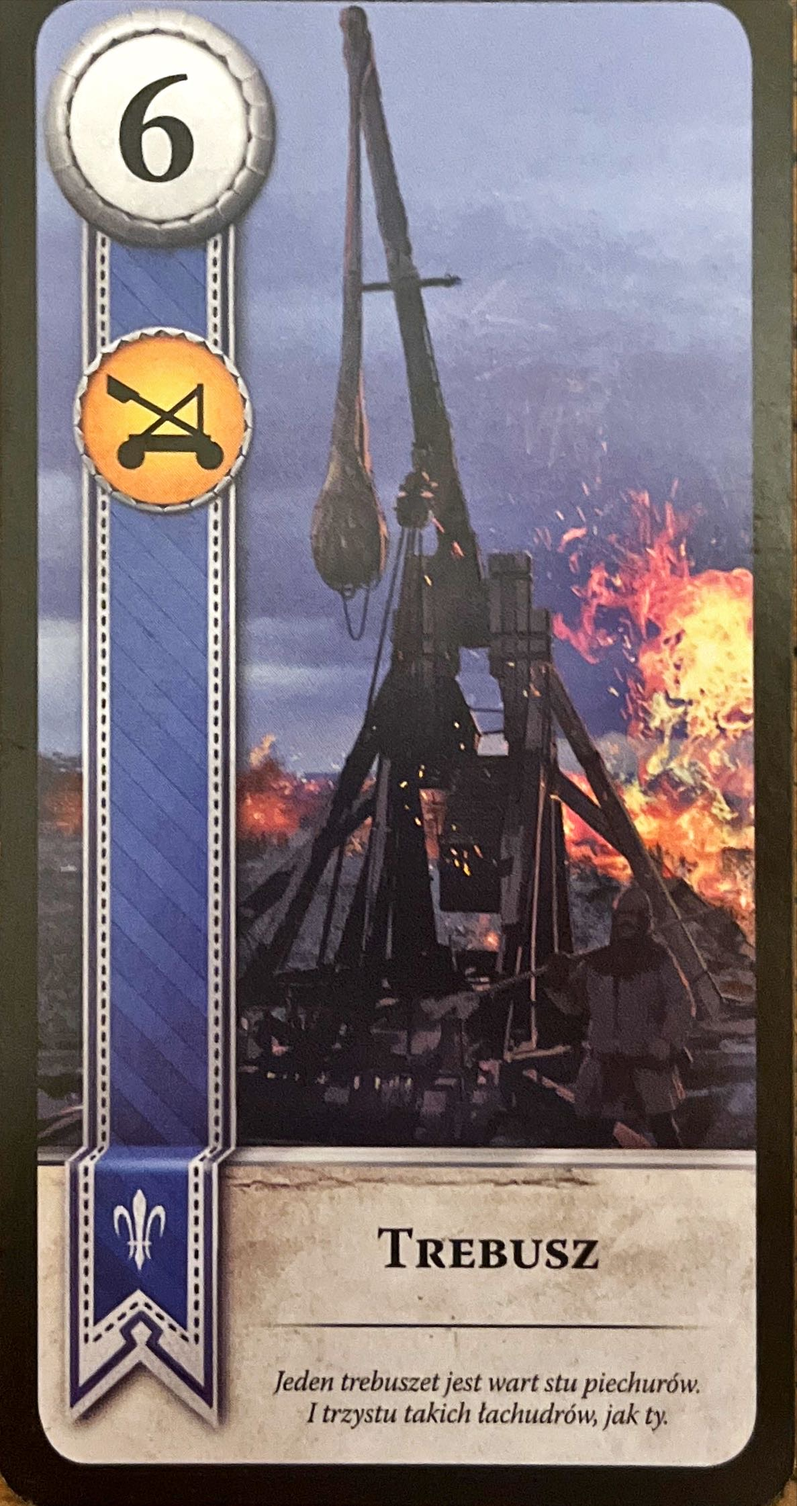6: (44, 4, 281, 246)
katapulta: (71, 326, 253, 513)
